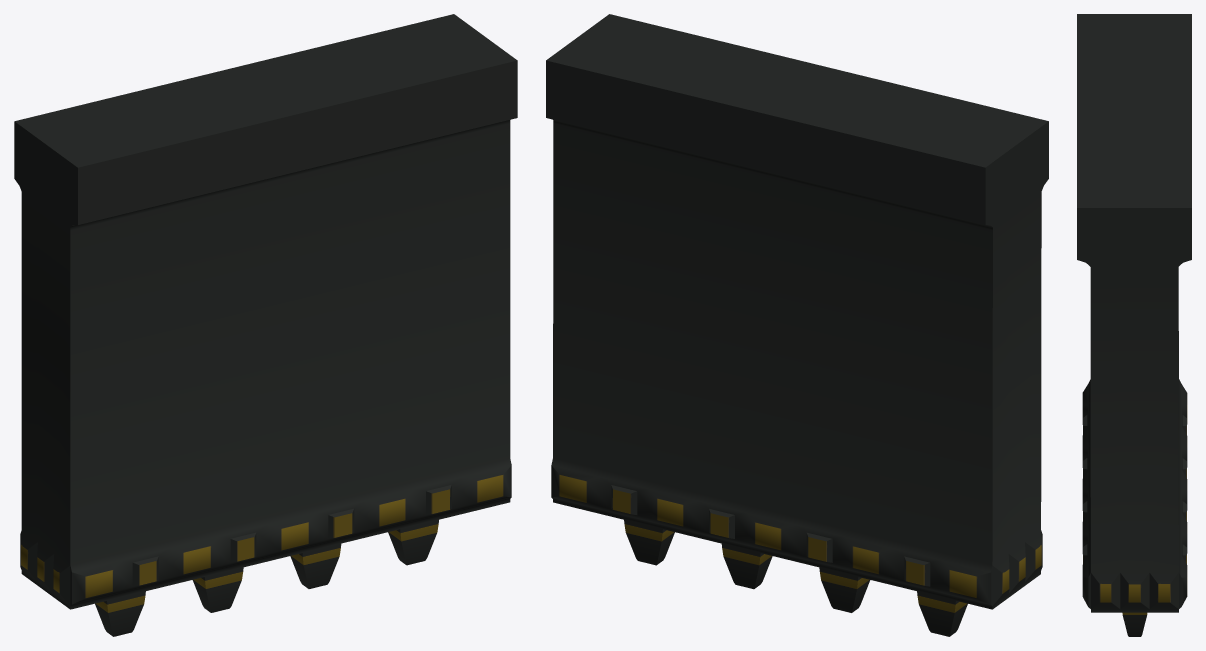
File: Gate.obj
3 renders of one model, left to right at view 1: azimuth 30°, elevation 25°; view 2: azimuth 150°, elevation 25°; view 3: azimuth 270°, elevation 25°, orthographic. The views are drawn at different scales.
Visible parts, largest first — view 1: TOP; view 2: TOP; view 3: TOP.
Part boxes in pixels (x1,y1,x2,y2): TOP: (14, 14, 517, 636); TOP: (546, 14, 1048, 636); TOP: (1077, 14, 1191, 636).
Size of the model in its own units: 8.21 by 8.79 by 2.
Materials: 1 (1 with a texture image).
